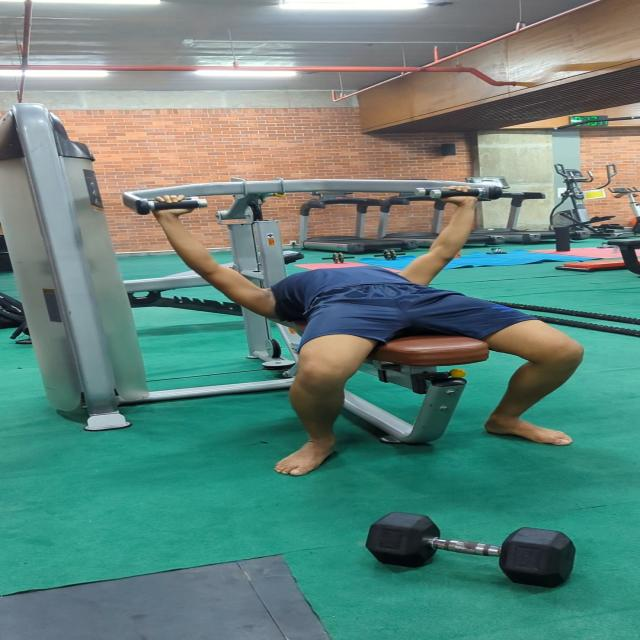Normal_BrenchPress: (146, 190, 605, 483)
